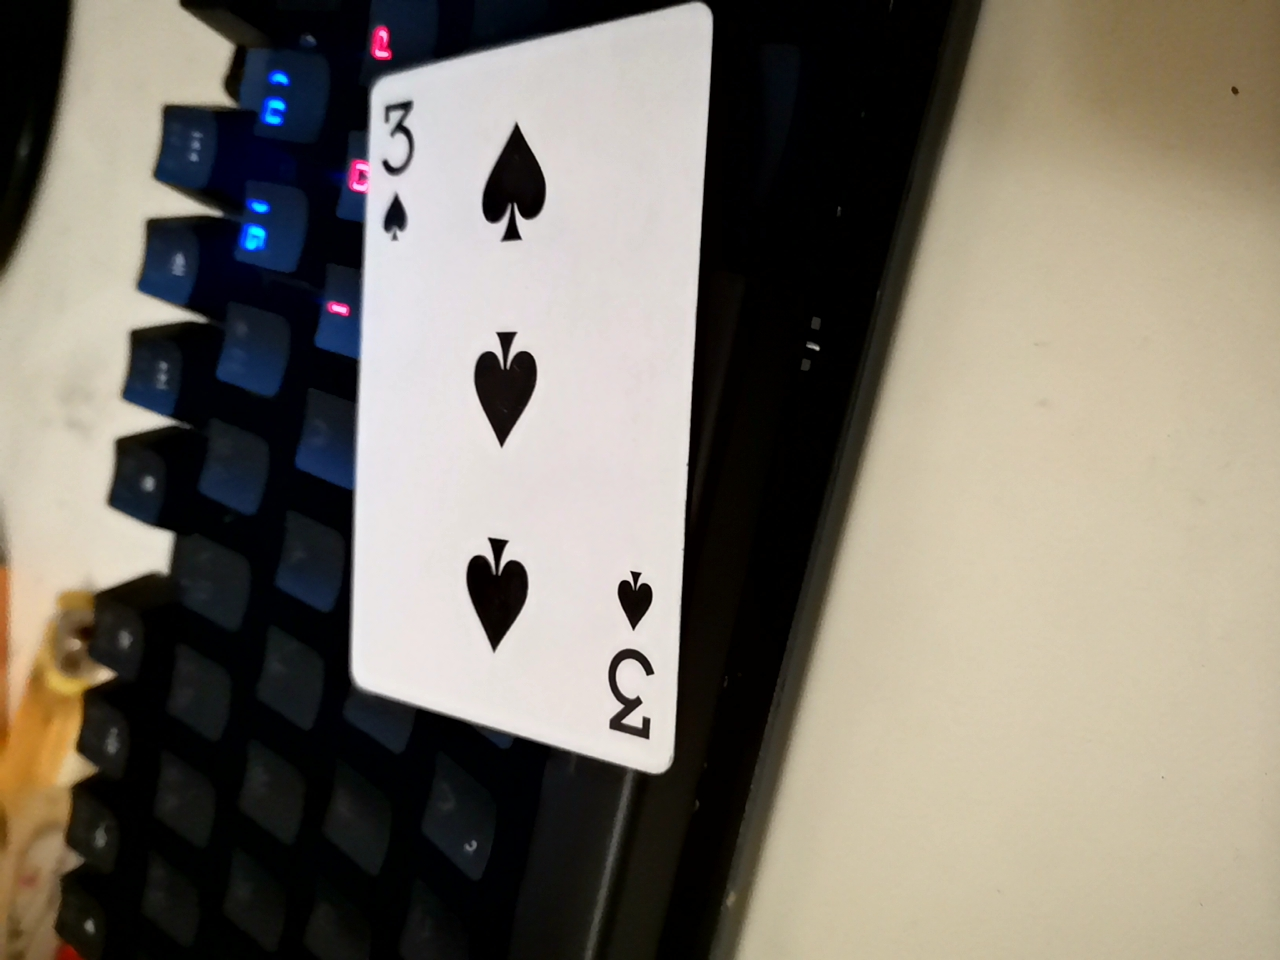ht 3: (318, 0, 689, 811)
